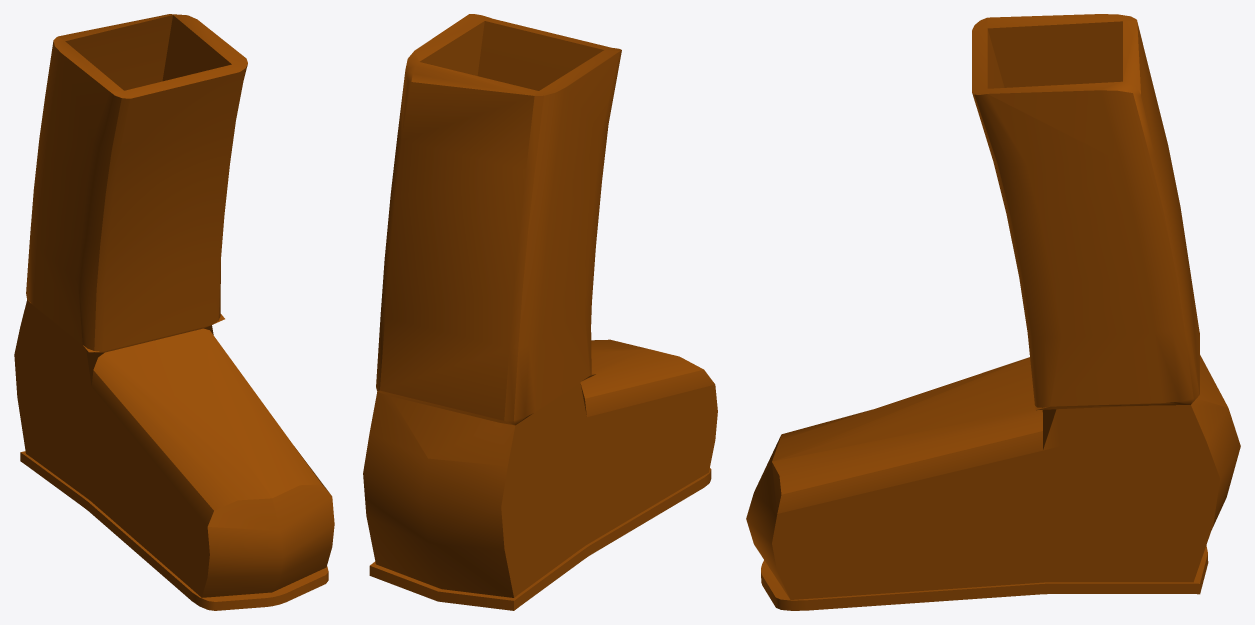
Rendered from Sepatu3.fbx.
3 views of the same model, side by side, from view 1: azimuth 30°, elevation 25°; view 2: azimuth 150°, elevation 25°; view 3: azimuth 270°, elevation 25° (orthographic). The views are drawn at different scales.
Parts seen in each view (by area): view 1: Sepatu3_LOD0; view 2: Sepatu3_LOD0; view 3: Sepatu3_LOD0.
Part boxes in pixels (x1=…): Sepatu3_LOD0: x1=14, y1=14, x2=334, y2=610; Sepatu3_LOD0: x1=363, y1=14, x2=717, y2=610; Sepatu3_LOD0: x1=746, y1=14, x2=1240, y2=610.
Size of what is drawn, in the model's own units: 21.23 by 68.69 by 58.18.
